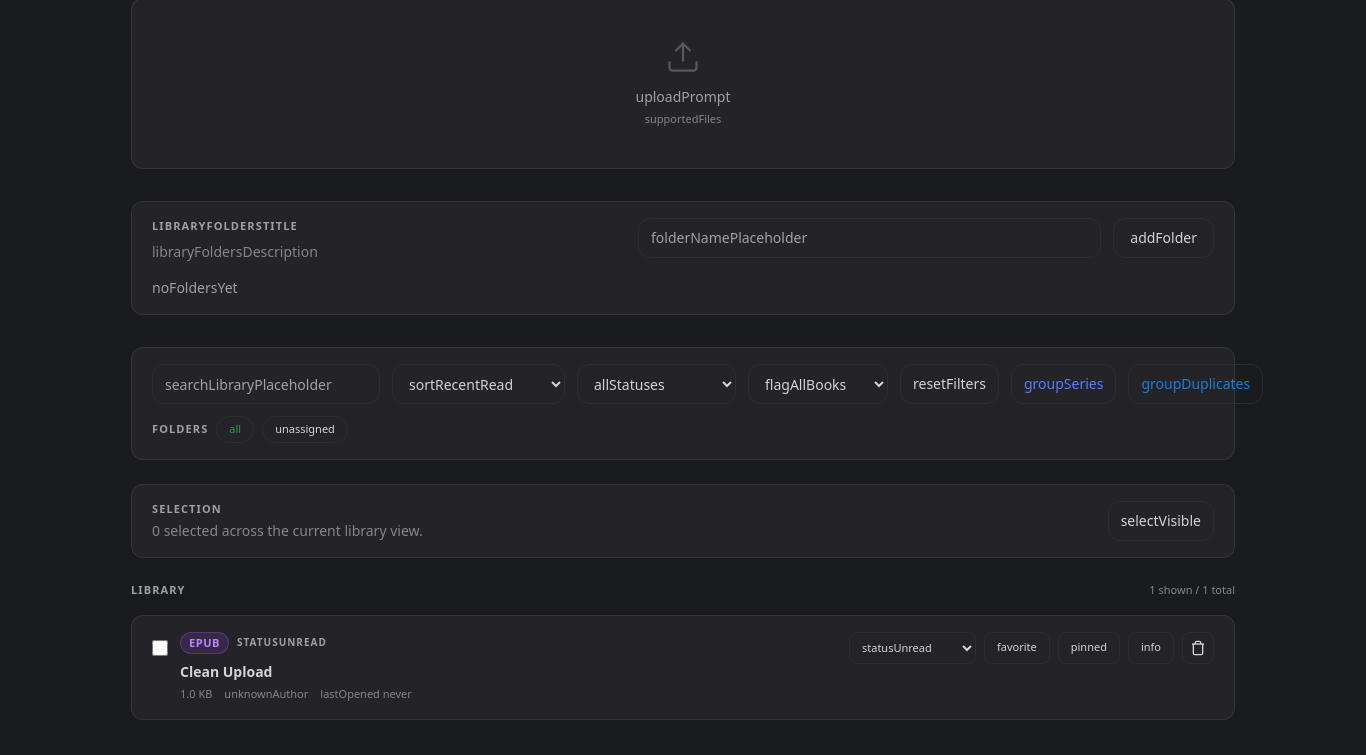
Test: file info keeps the original filename visible and hides storage-only details
This screenshot has width=1366, height=755.
(page scrolled)
Expected: the text "Clean Upload" is shown, [180,662,272,681]
Click the button "info". click: (1151, 648)
box: [1128,632,1174,664]
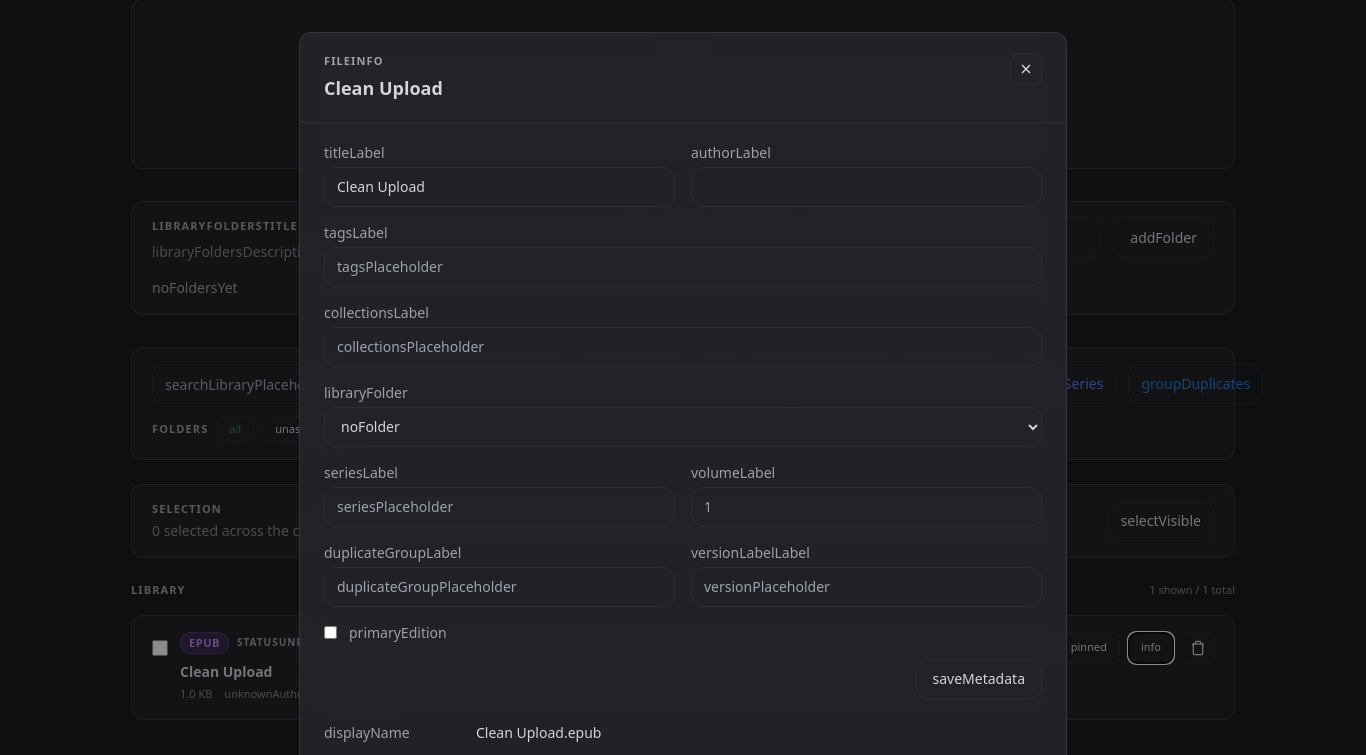
Expected: the heading "Clean Upload" is shown, [324,74,443,102]
Expected: the text "Clean Upload.epub" is shown, [476,722,601,742]
